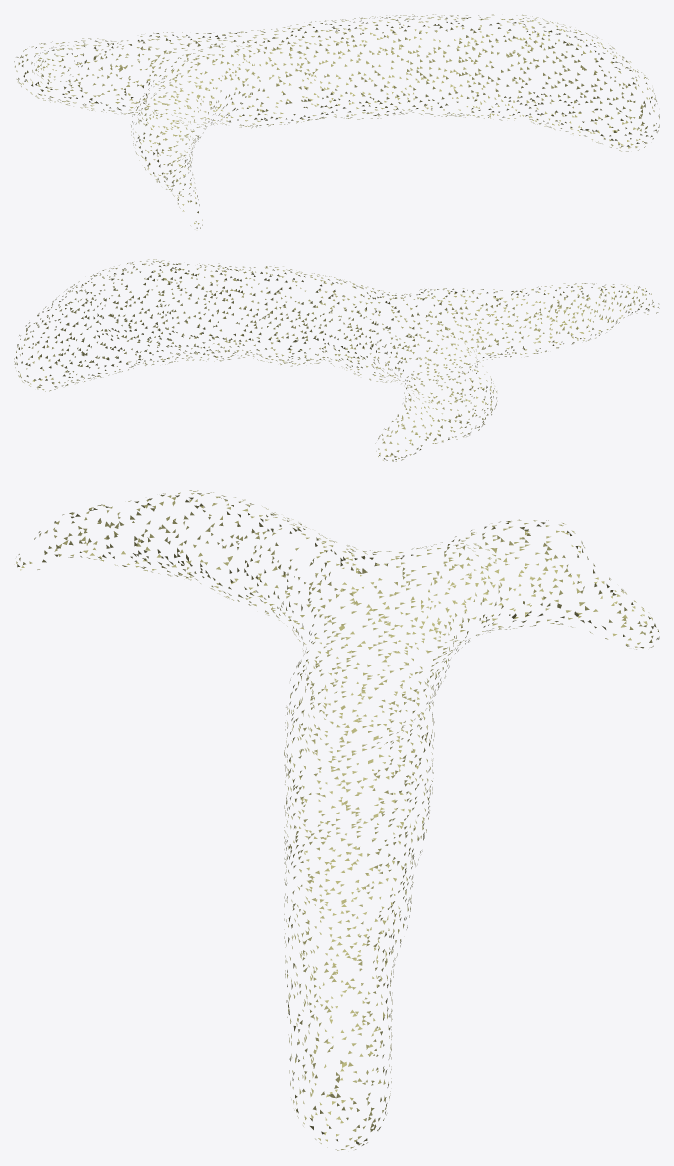
The model's file is morph_009.glb.
3 renders of one model, top to bottom at view 1: azimuth 30°, elevation 25°; view 2: azimuth 150°, elevation 25°; view 3: azimuth 270°, elevation 25°, orthographic. The views are drawn at different scales.
Size of the model in its own units: 133 by 44.88 by 89.44.
